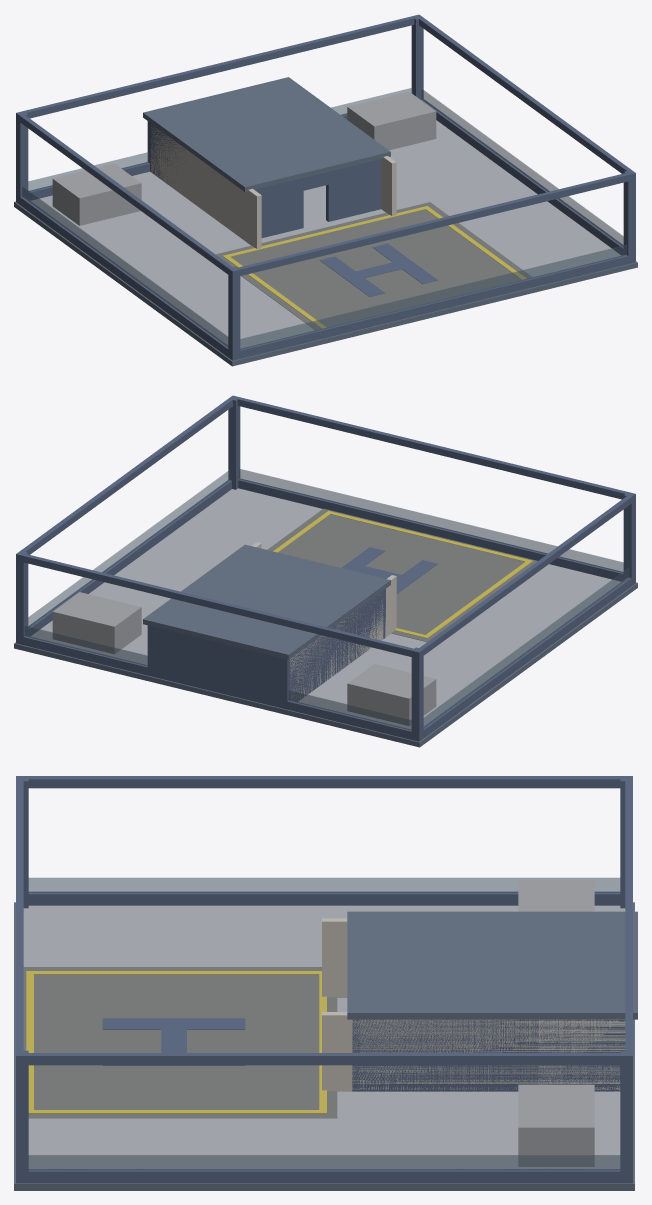
The model's file is office-roof-a.skyline-v4.lod0.glb.
3 renders of one model, top to bottom at view 1: azimuth 30°, elevation 25°; view 2: azimuth 150°, elevation 25°; view 3: azimuth 270°, elevation 25°, orthographic. The views are drawn at different scales.
Parts seen in each view (by area): view 1: office-roof-a; view 2: office-roof-a; view 3: office-roof-a.
Part boxes in pixels (x1,y1,x2,y2): office-roof-a: [14, 14, 637, 366]; office-roof-a: [14, 395, 637, 747]; office-roof-a: [14, 776, 637, 1190].
Size of the model in its own units: 26.16 by 5.8 by 24.48.
